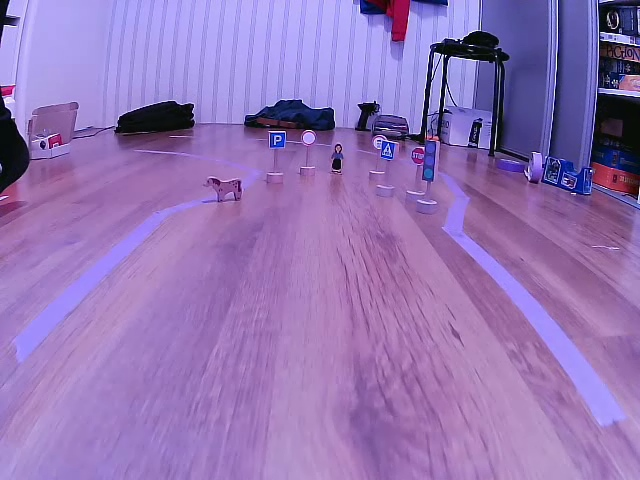groenlicht: (424, 139, 437, 181)
mens: (331, 143, 344, 175)
paard: (205, 174, 246, 204)
parkeerbord: (267, 130, 286, 150)
stopbord: (412, 147, 423, 164)
wegdicht: (301, 129, 317, 147)
zebrapad: (381, 141, 393, 158)
